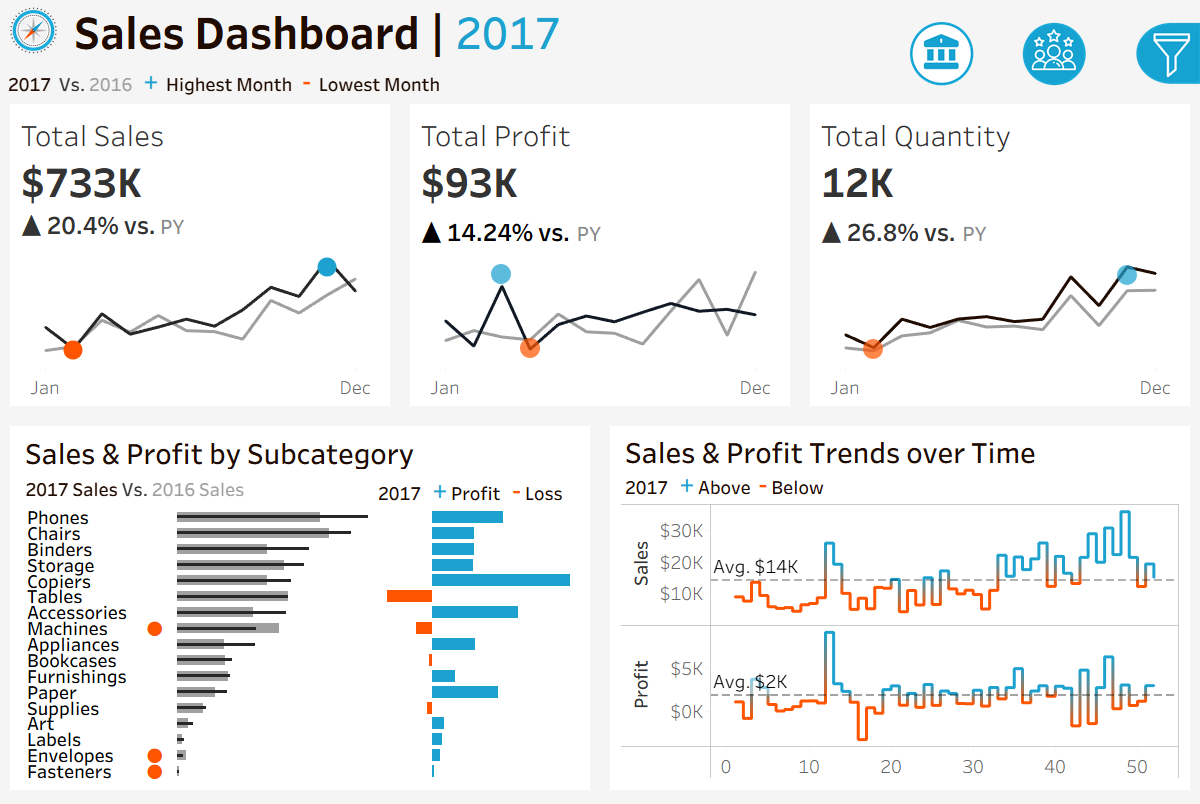

The page's visual inventory and layout, read from the dashboard file:
{"tool":"tableau","page":{"name":"SalesDashboard","canvas":[1200,800],"ordinal":1},"visuals":[{"type":"image","param":"Image/Icon - Logo.png","box":[0,0,66,61]},{"type":"text","box":[66,0,794,61]},{"type":"blank","box":[982,10,207,89]},{"type":"dashboard-object","box":[885,17,113,73]},{"type":"dashboard-object","box":[998,17,113,73]},{"type":"worksheet","title":"Leg. KPI","mark":"Automatic","box":[0,61,1200,38]},{"type":"worksheet","title":"Sales","mark":"Automatic","rows":["Calculation_598415839048200192"],"cols":["Order Date"],"box":[0,99,400,317]},{"type":"worksheet","title":"Profit","mark":"Line","rows":["Calculation_598415839077027848"],"cols":["Order Date"],"box":[400,99,400,317]},{"type":"worksheet","title":"Quantity","mark":"Automatic","rows":["Calculation_598415839164342287"],"cols":["Order Date"],"box":[800,99,400,317]},{"type":"text","box":[982,99,207,47]},{"type":"parameter","param":"[Parameters].[Parameter 1]","box":[982,146,207,60]},{"type":"text","box":[982,206,207,39]},{"type":"filter","title":"Sales","param":"[federated.1l19v4d15t1470123tqrn0ay8ml4].[none:Category:nk]","box":[982,245,207,70]},{"type":"filter","title":"Sales","param":"[federated.1l19v4d15t1470123tqrn0ay8ml4].[none:Sub-Category:nk]","box":[982,315,207,70]},{"type":"blank","box":[982,385,207,55]},{"type":"text","box":[17,433,566,40]},{"type":"text","box":[617,433,566,37.2]},{"type":"text","box":[982,440,207,39]},{"type":"text","box":[617,470.2,566,29.7]},{"type":"worksheet","title":"Leg. subcategory","mark":"Automatic","box":[17,473,353,32]},{"type":"text","box":[370,473,213,32]},{"type":"filter","title":"Sales","param":"[federated.1l19v4d15t1470123tqrn0ay8ml4].[none:Region:nk]","box":[982,479,207,70]},{"type":"worksheet","title":"weekly trend","mark":"Automatic","rows":["Calculation_1086493448135958529","Calculation_598415839076196357"],"cols":["Order Date"],"box":[617,499.8,566,283.2]},{"type":"worksheet","title":"subcategory","mark":"Bar","rows":["Sub-Category","Calculation_598415839206752275"],"cols":["Current Year (copy)_1086493448136536066","Calculation_1086493448135958529","Calculation_598415839076196357"],"box":[17,505,566,278]},{"type":"filter","title":"Sales","param":"[federated.1l19v4d15t1470123tqrn0ay8ml4].[none:State:nk]","box":[982,549,207,70]},{"type":"filter","title":"Sales","param":"[federated.1l19v4d15t1470123tqrn0ay8ml4].[none:City:nk]","box":[982,619,207,83]}]}

Visuals, with their boxes in screenshot pixels (x1, y1, x2, y2), scaled from the page's 1200x800 canvas onto the 1200x804 screenshot:
image: <box>0,0,66,61</box>
text: <box>66,0,860,61</box>
blank: <box>982,10,1189,99</box>
dashboard-object: <box>885,17,998,90</box>
dashboard-object: <box>998,17,1111,90</box>
"Leg. KPI" worksheet: <box>0,61,1199,99</box>
"Sales" worksheet: <box>0,99,400,418</box>
"Profit" worksheet (Line marks): <box>400,99,800,418</box>
"Quantity" worksheet: <box>800,99,1199,418</box>
text: <box>982,99,1189,147</box>
parameter: <box>982,147,1189,207</box>
text: <box>982,207,1189,246</box>
"Sales" filter: <box>982,246,1189,317</box>
"Sales" filter: <box>982,317,1189,387</box>
blank: <box>982,387,1189,442</box>
text: <box>17,435,583,475</box>
text: <box>617,435,1183,473</box>
text: <box>982,442,1189,481</box>
text: <box>617,473,1183,502</box>
"Leg. subcategory" worksheet: <box>17,475,370,508</box>
text: <box>370,475,583,508</box>
"Sales" filter: <box>982,481,1189,552</box>
"weekly trend" worksheet: <box>617,502,1183,787</box>
"subcategory" worksheet (Bar marks): <box>17,508,583,787</box>
"Sales" filter: <box>982,552,1189,622</box>
"Sales" filter: <box>982,622,1189,706</box>
